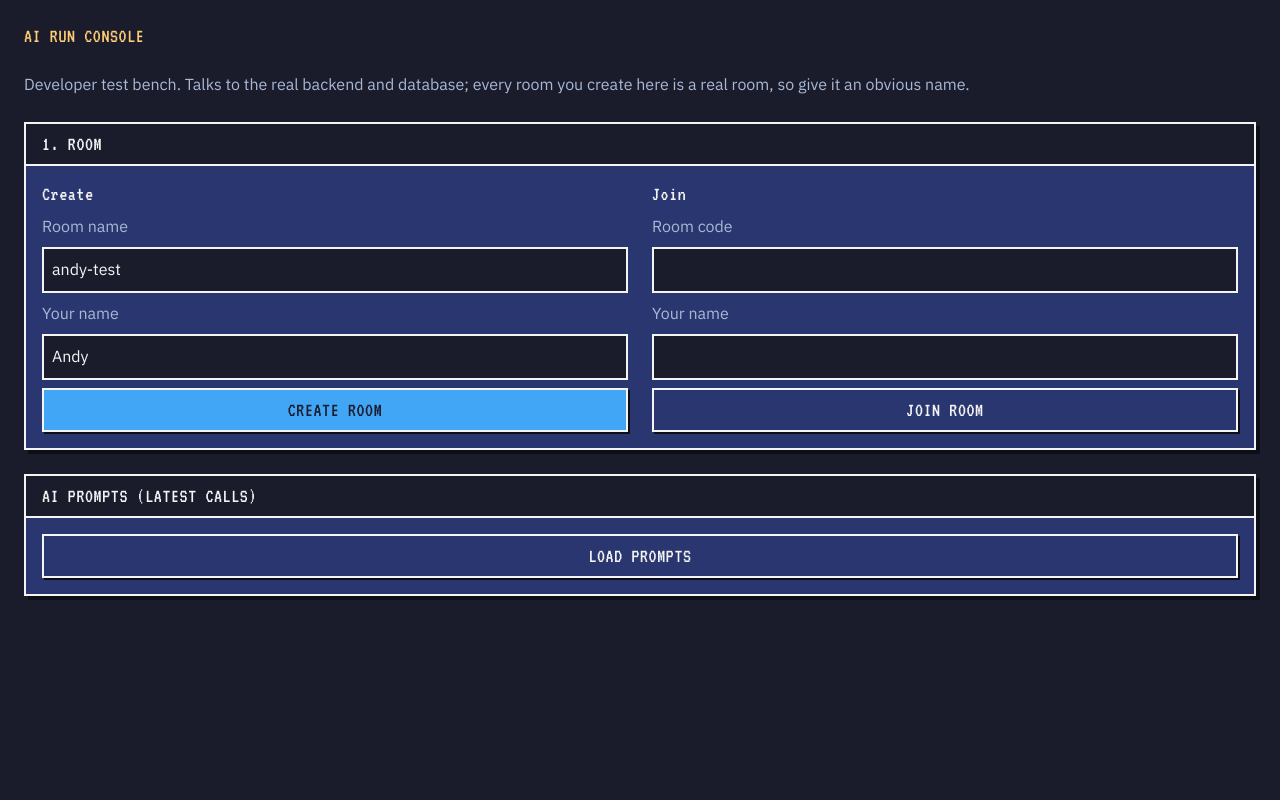
Scenario: DevRunConsole › shows a failed action's error in an alert
The image size is (1280, 800).
Click the button "Create room": (335,410) [42,388,628,432]
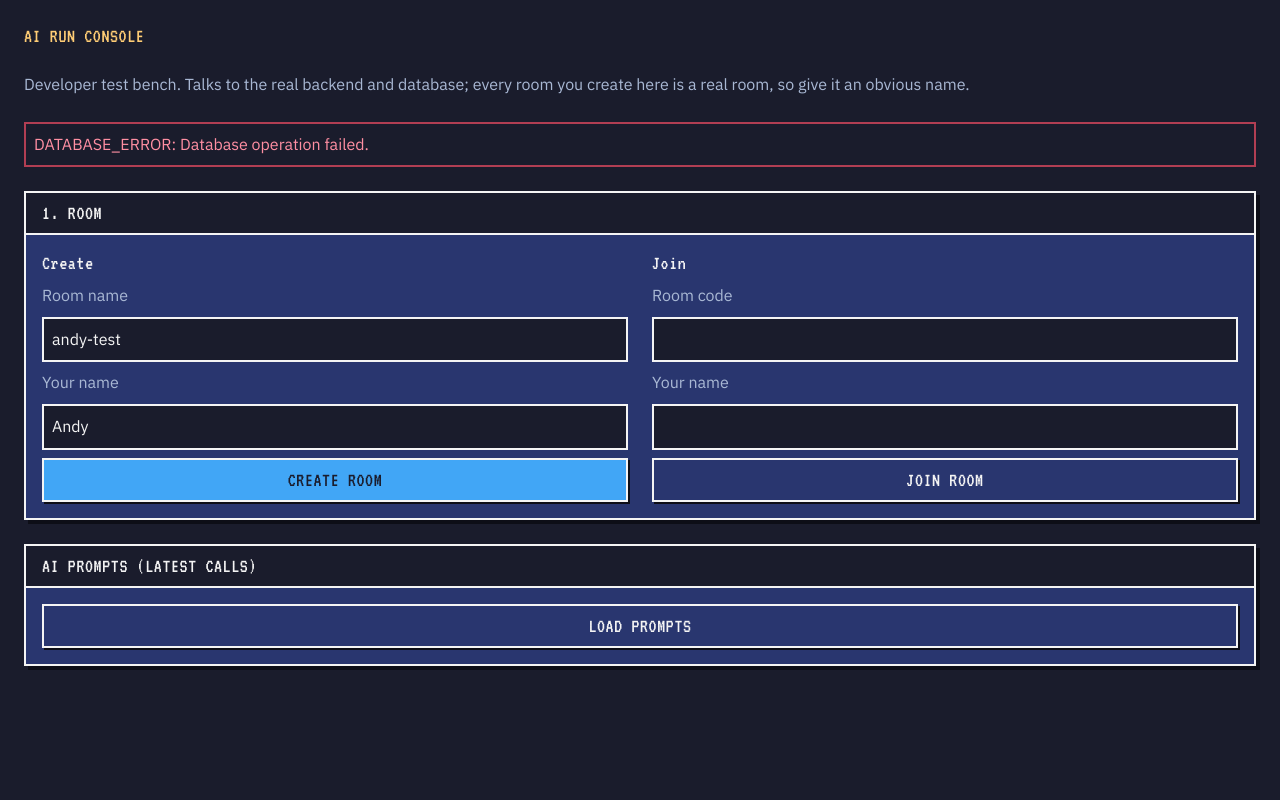
Expected: the message reads "DATABASE_ERROR: Database operation failed.", [34,134,369,154]
